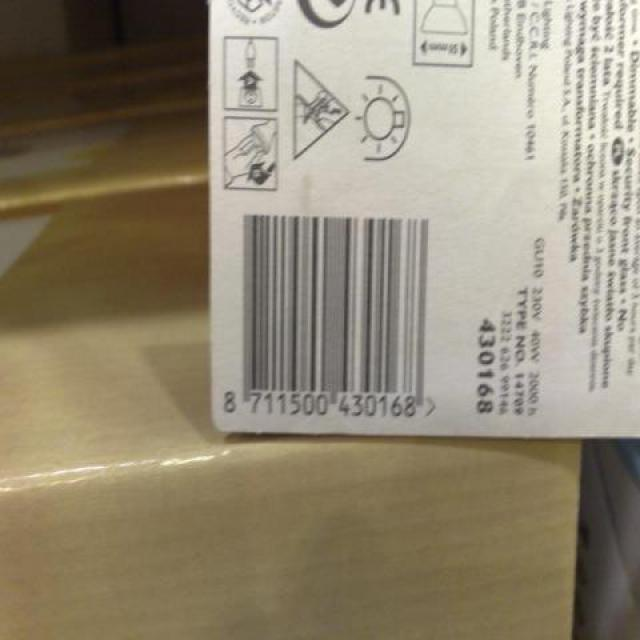Barcode: (217, 198, 450, 430)
